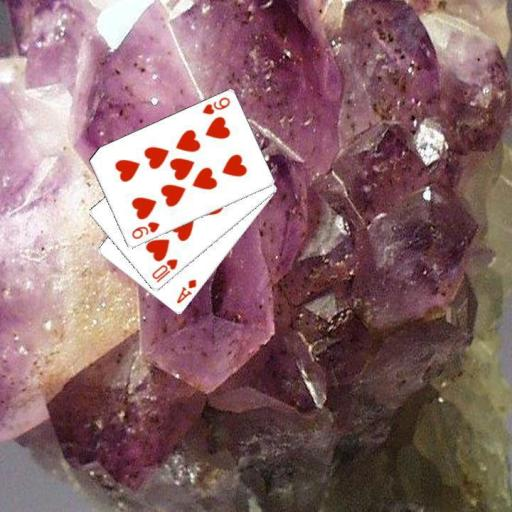card-corner: (149, 256, 179, 284), (172, 276, 198, 306), (128, 219, 161, 241), (199, 94, 232, 116)
